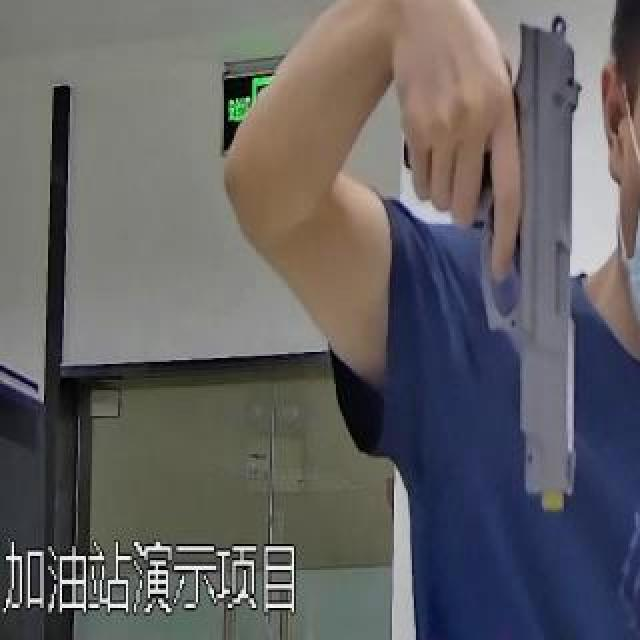Guns: (400, 0, 616, 550)
